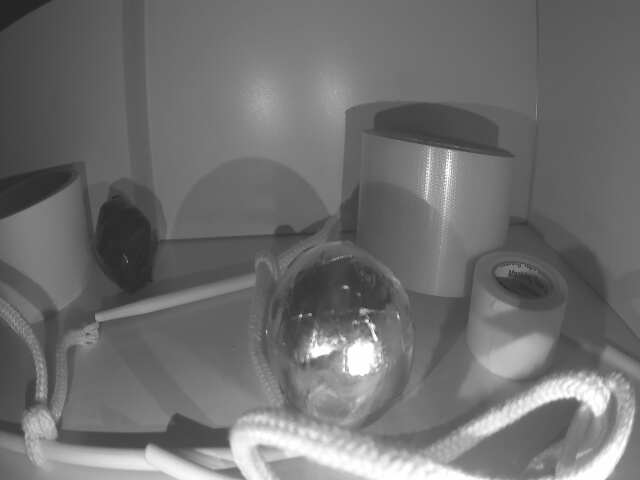Dead: (95, 192, 161, 291)
Live: (265, 240, 410, 432)
